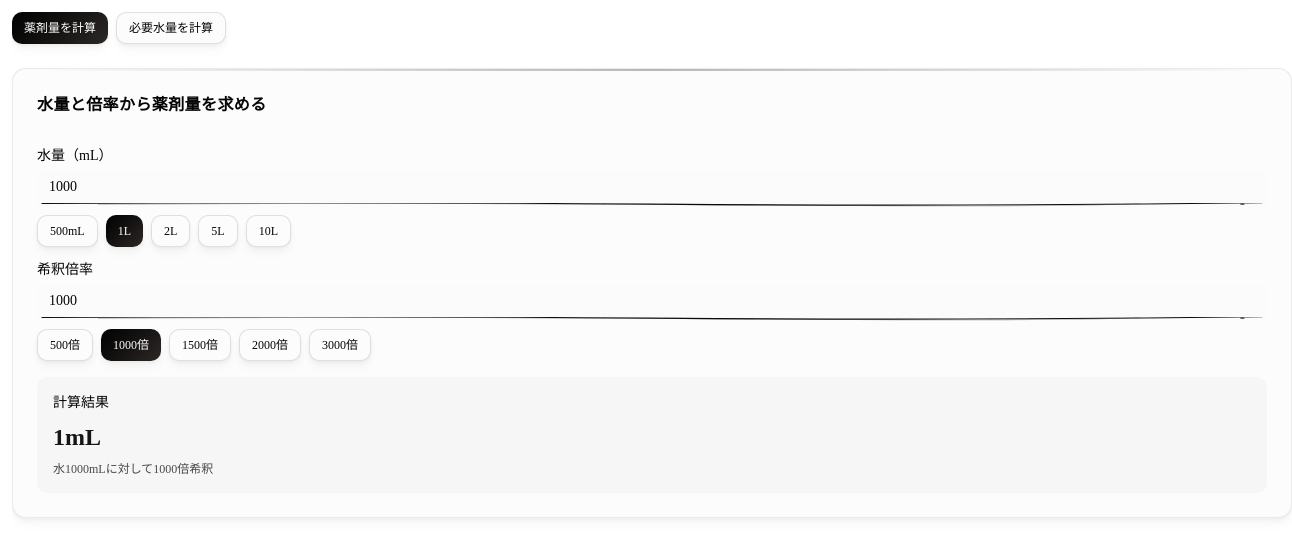
Test: DilutionCalculator › 通常モード（水量＋倍率から薬剤量を求める） › 水量プリセット (5L) を押すと水量が 5000mL に更新される
Click the button "5L": (218, 231) [198,215,238,247]
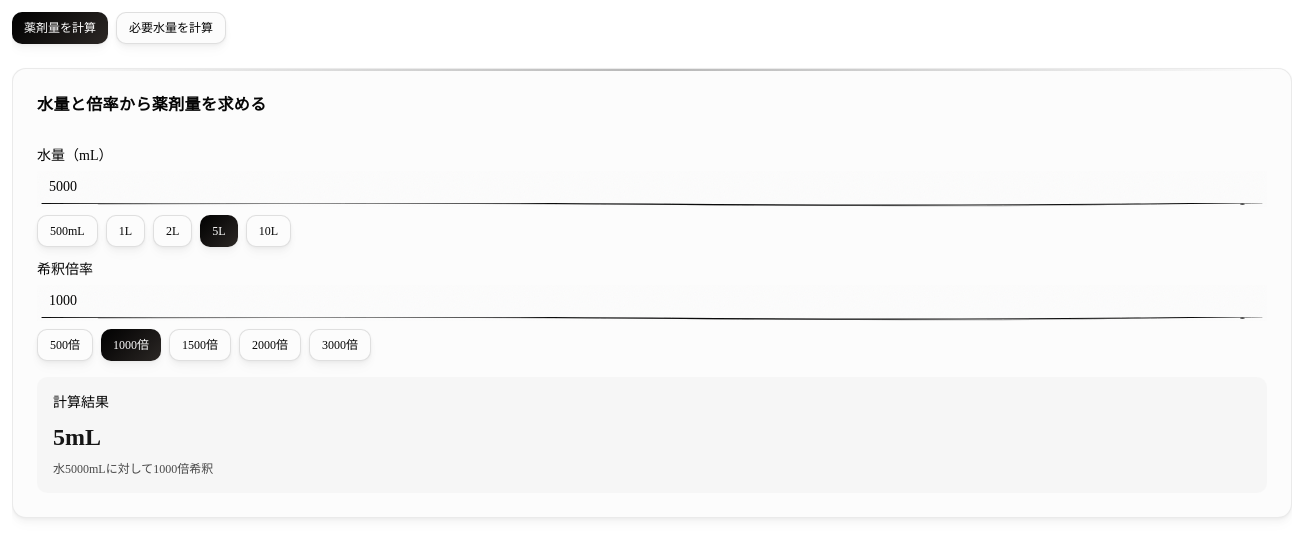
Result: the text "5mL" is shown at [53,424,101,450]
Result: the text "水5000mLに対して1000倍希釈" is shown at [53,462,213,476]
